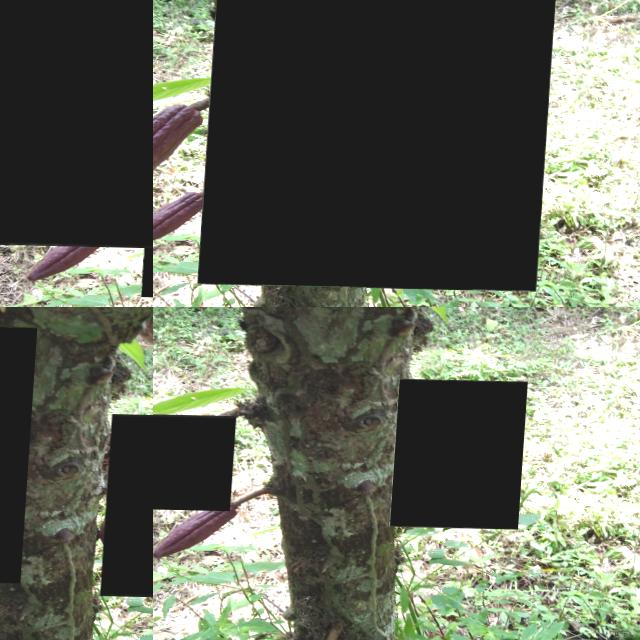Fitoftora: (395, 377, 531, 527), (0, 323, 39, 582), (106, 412, 153, 596)
Monilia: (203, 0, 563, 289), (0, 0, 153, 247)
Sana: (153, 413, 240, 510), (159, 502, 240, 560)
